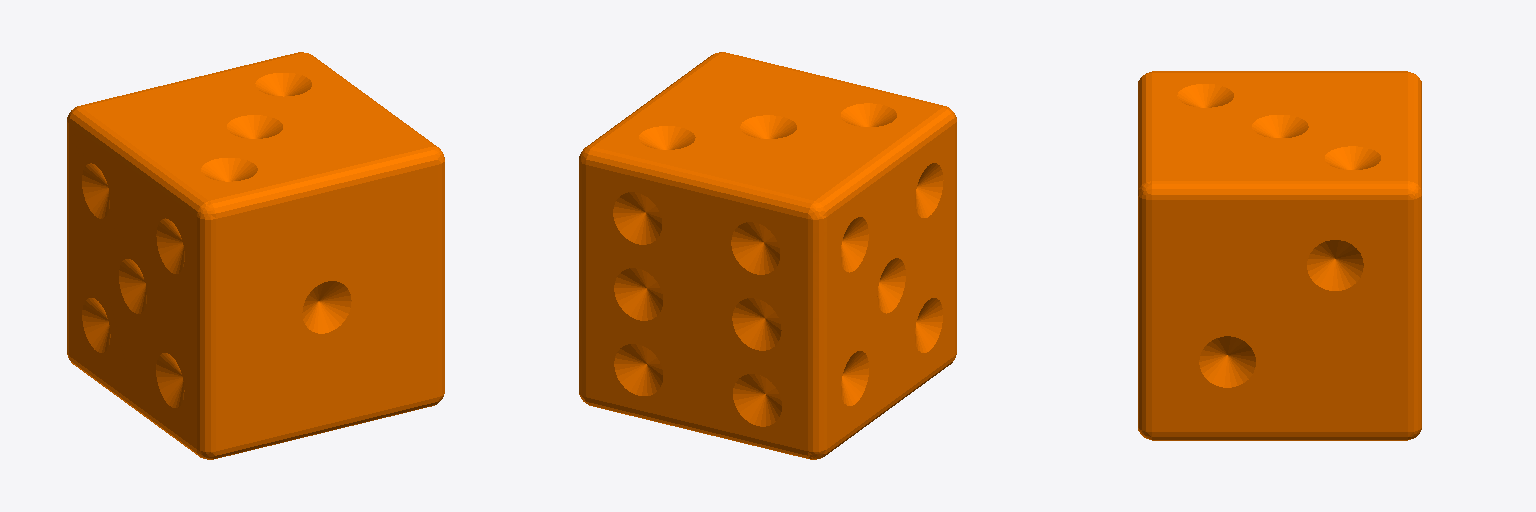
File: OrangeDice.obj
The picture shows the model from 3 angles: view 1: azimuth 30°, elevation 25°; view 2: azimuth 150°, elevation 25°; view 3: azimuth 270°, elevation 25°; orthographic projection.
Visible parts, largest first — view 1: Dice__Box__Box; view 2: Dice__Box__Box; view 3: Dice__Box__Box.
Boxes of the visible parts, box(x1,y1,x2,y2) form: Dice__Box__Box: box(67, 52, 444, 459); Dice__Box__Box: box(579, 52, 956, 459); Dice__Box__Box: box(1138, 71, 1421, 440).
Bounding box in the file's own units: 10 × 10 × 10.